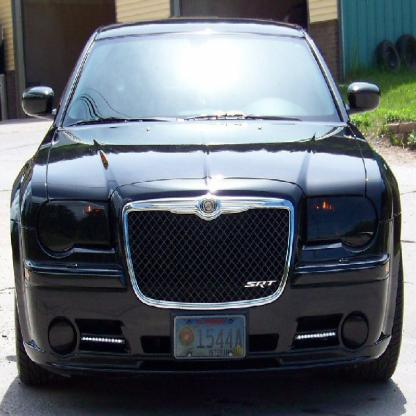Vehicle: (10, 19, 406, 389)
